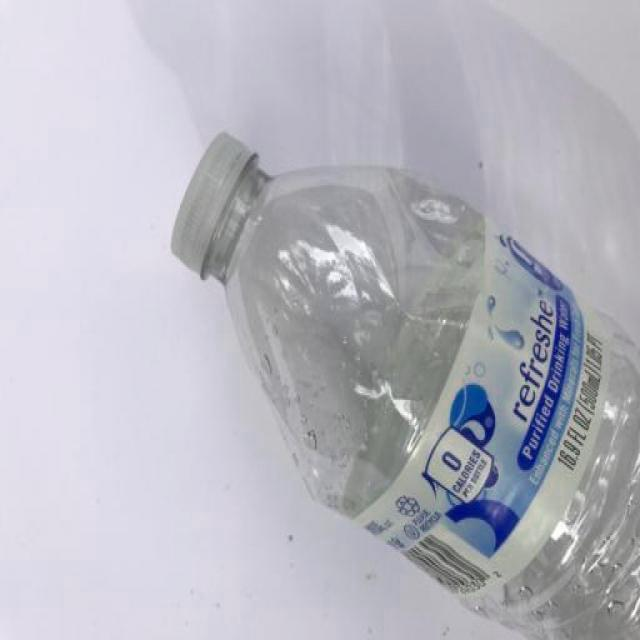bottle: (170, 132, 640, 640)
